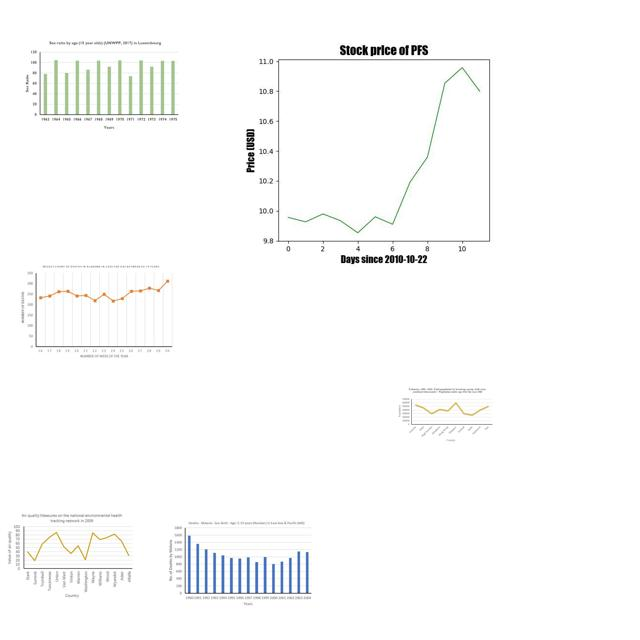Graph: (223, 31, 537, 267), (17, 263, 176, 363), (22, 35, 184, 132), (166, 518, 314, 607), (5, 510, 135, 599), (397, 387, 494, 442)
